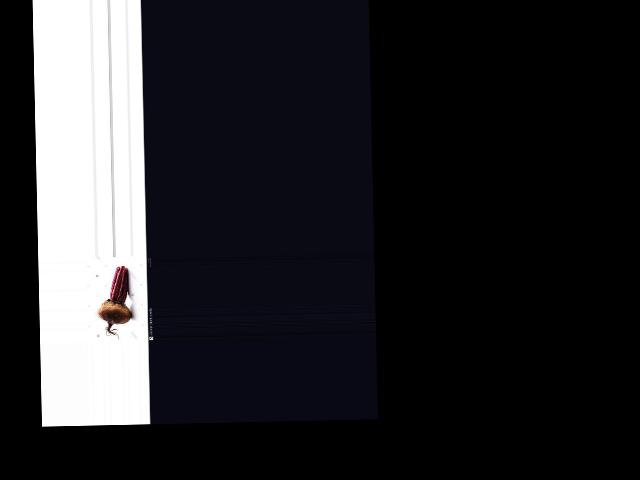beet: (97, 265, 131, 339)
